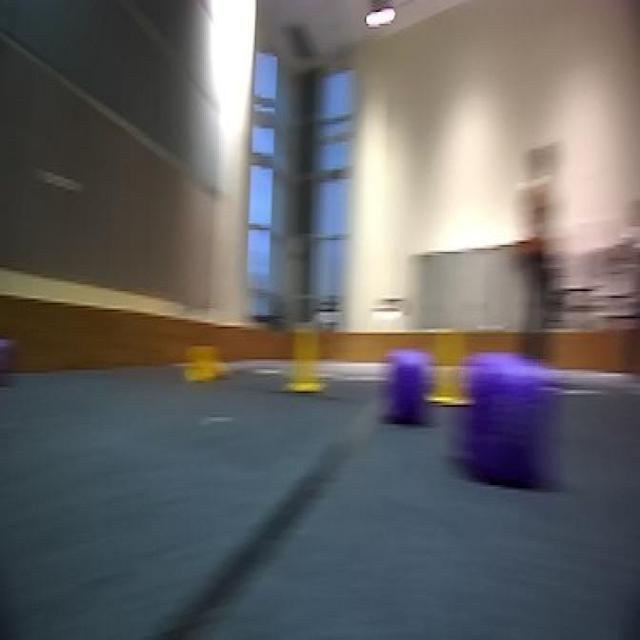frc_cone: (422, 327, 477, 405), (286, 320, 328, 398), (184, 336, 235, 392)
frc_cube: (468, 358, 552, 496), (390, 371, 428, 420)
